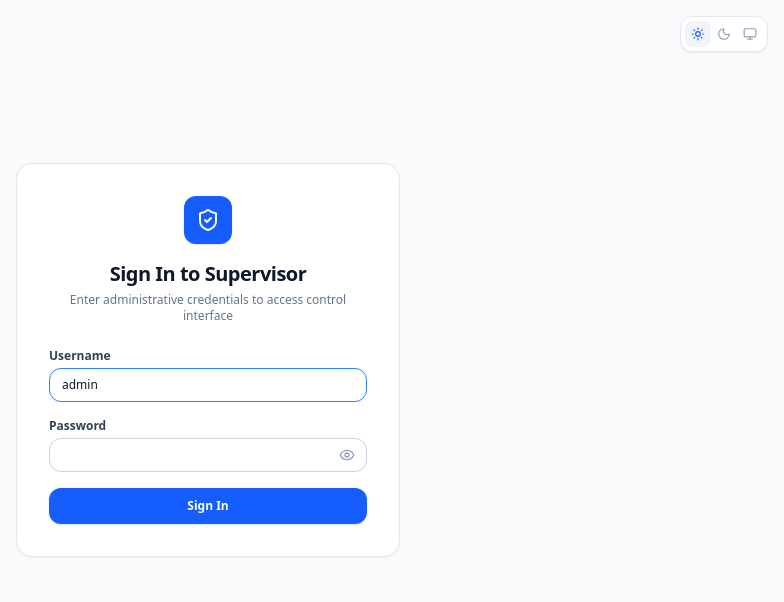
Test case: LoginPage › displays error banner when authentication fails
Type "badpass" into the password field labelled "Password" at (208, 455), box [49, 438, 367, 472]
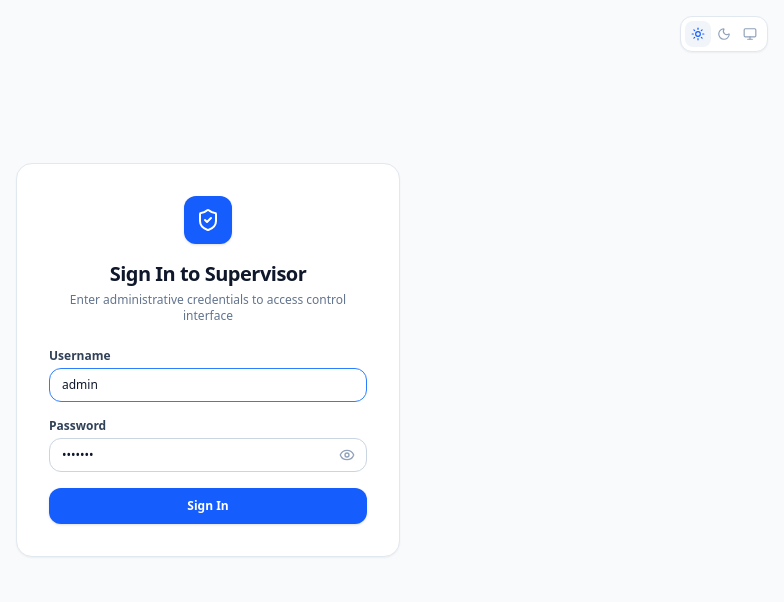
Click the button "Sign In" at (208, 506), box [49, 488, 367, 524]
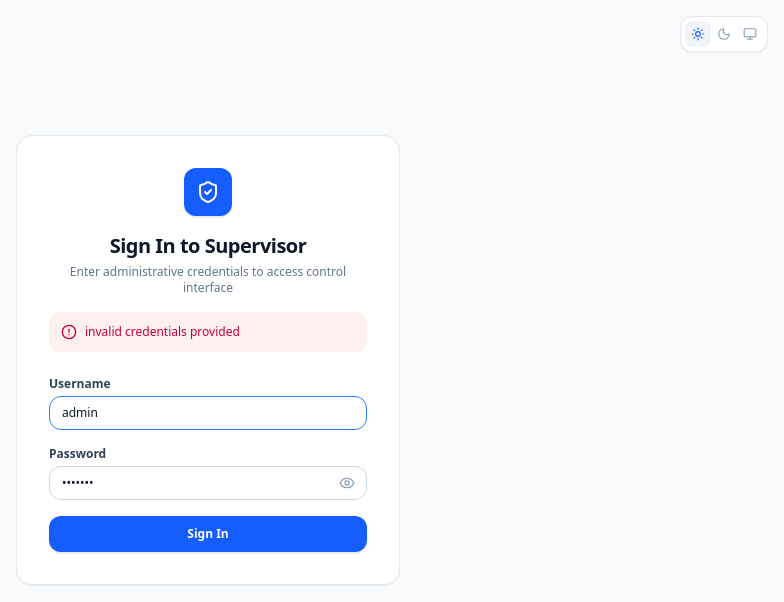
Now the text "invalid credentials provided" is shown, box [85, 324, 240, 340]
